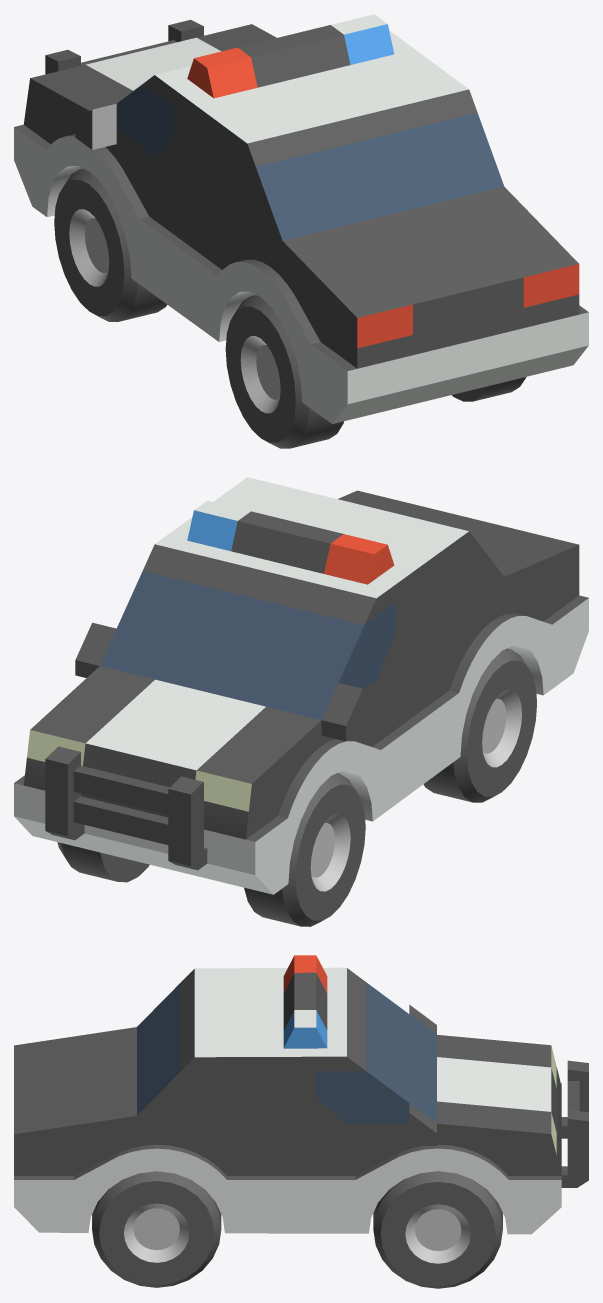
File: carPolice.fbx
3 renders of one model, top to bottom at view 1: azimuth 30°, elevation 25°; view 2: azimuth 150°, elevation 25°; view 3: azimuth 270°, elevation 25°, orthographic. The views are drawn at different scales.
Parts seen in each view (by area): view 1: body 6, wheelBackLeft 6, wheelFrontLeft 6, bar 2, wheelBackRight 6; view 2: body 6, bar 2, wheelFrontLeft 6, wheelBackLeft 6, wheelFrontRight 6; view 3: body 6, wheelFrontRight 6, wheelBackRight 6, bar 2.
Boxes of the visible parts, x1,y1,x2,y2 form: body 6: (14, 14, 588, 423); wheelBackLeft 6: (225, 295, 343, 448); wheelFrontLeft 6: (54, 168, 167, 321); bar 2: (45, 19, 203, 74); wheelBackRight 6: (452, 377, 526, 401); body 6: (14, 477, 588, 894); bar 2: (45, 746, 207, 870); wheelFrontLeft 6: (244, 773, 365, 926); wheelBackLeft 6: (423, 648, 536, 802); wheelFrontRight 6: (57, 842, 149, 882); body 6: (14, 955, 561, 1234); wheelFrontRight 6: (373, 1171, 502, 1288); wheelBackRight 6: (92, 1171, 221, 1287); bar 2: (561, 1060, 588, 1187).
Size of the model in its own units: 5.55 by 6.06 by 12.44.
